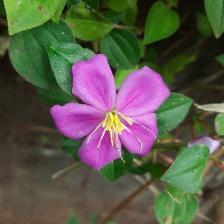malabar melastome: (48, 53, 170, 171)
